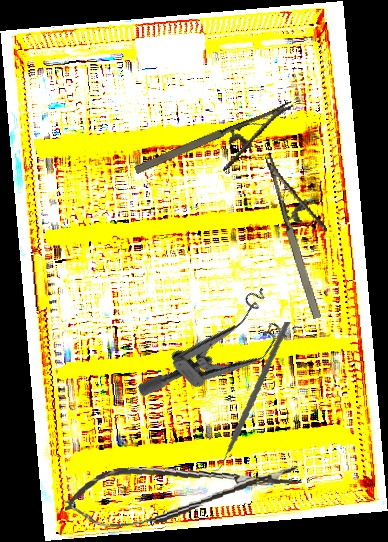Chopper: (187, 321, 308, 473)
Micro Scissor: (61, 452, 305, 532)
Needle Holder: (132, 100, 307, 201), (264, 145, 349, 321)
Speculum: (134, 275, 301, 439)
